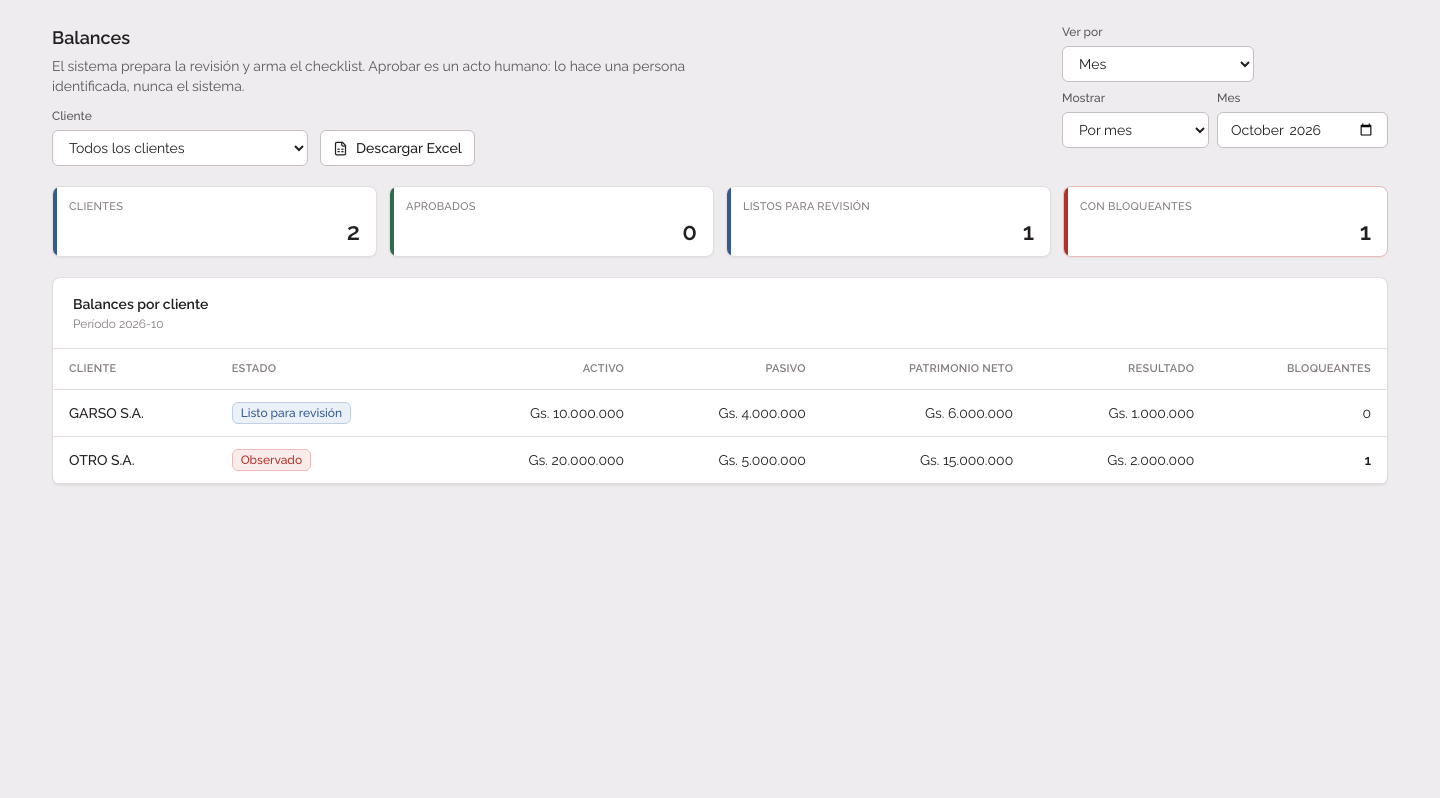
Test: pantalla de balances › filtro por cliente (2026-10-02) › si el filtro deja afuera al cliente que se estaba editando, el panel de abajo se cierra
The image size is (1440, 798).
Click the cell "GARSO S.A.": (134, 412) [53,389,216,436]
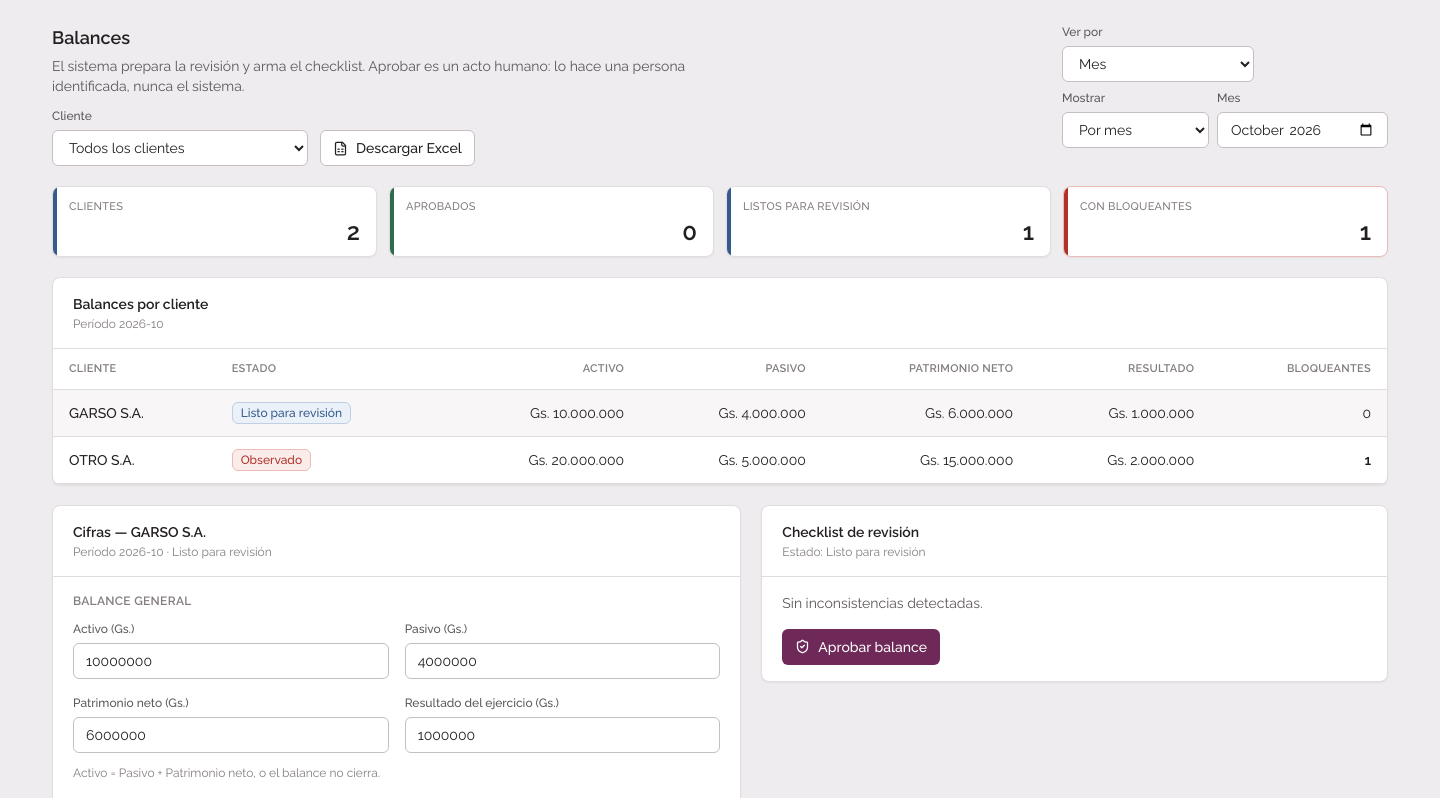
Expected: the field labelled "Activo (Gs.)" is shown, [73,642,389,678]
Select "OTRO S.A." in the dropdown labelled "Cliente": (180, 148) [52,130,308,166]
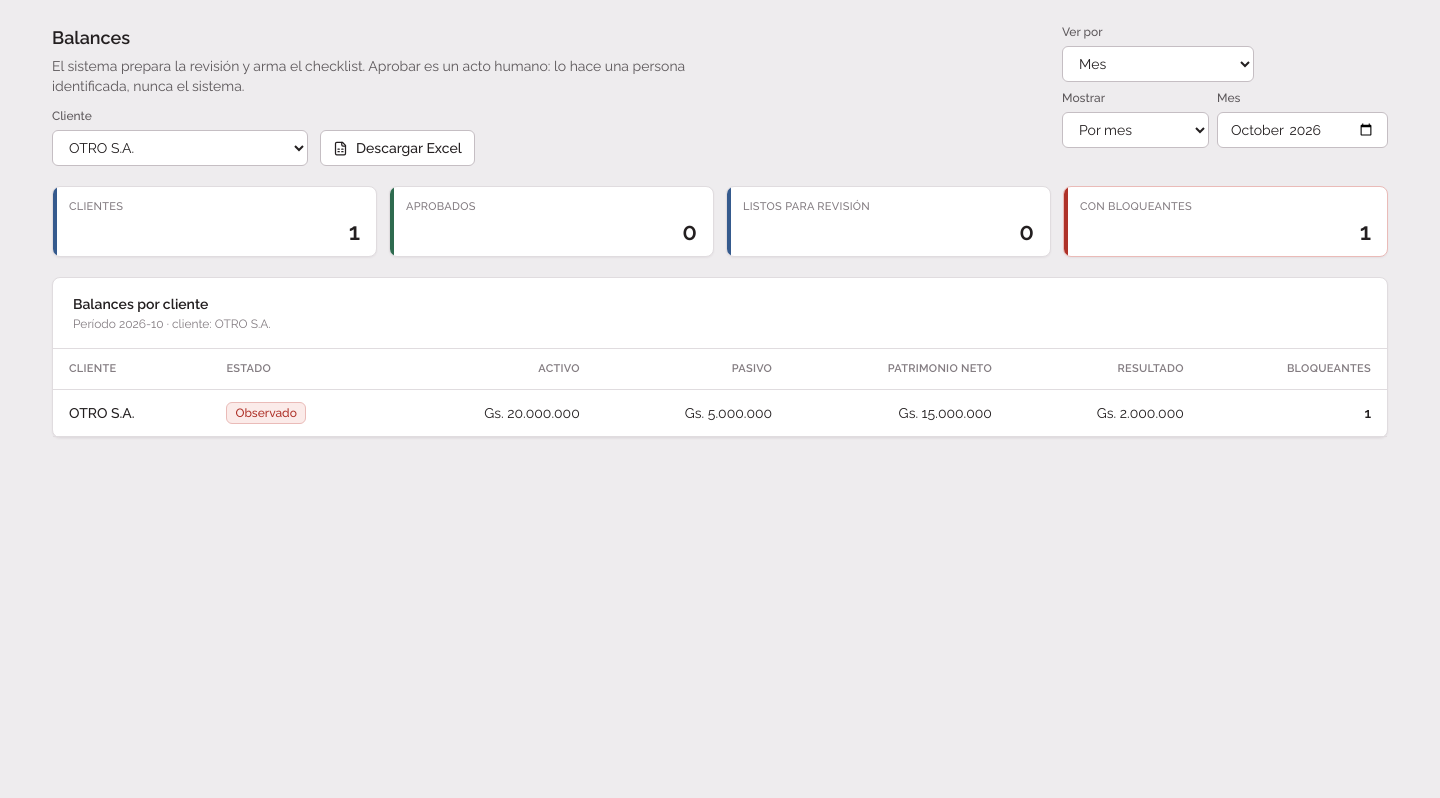
Expected: the label labelled "Activo (Gs.)" is gone
